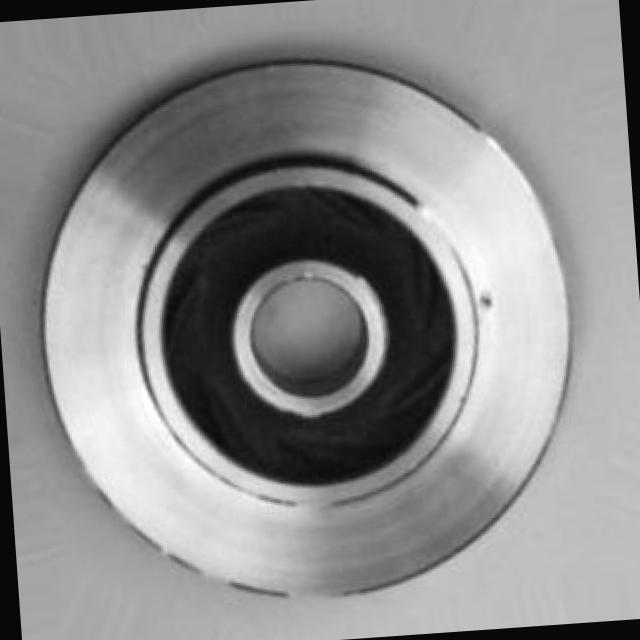Defect: (468, 282, 510, 320)
